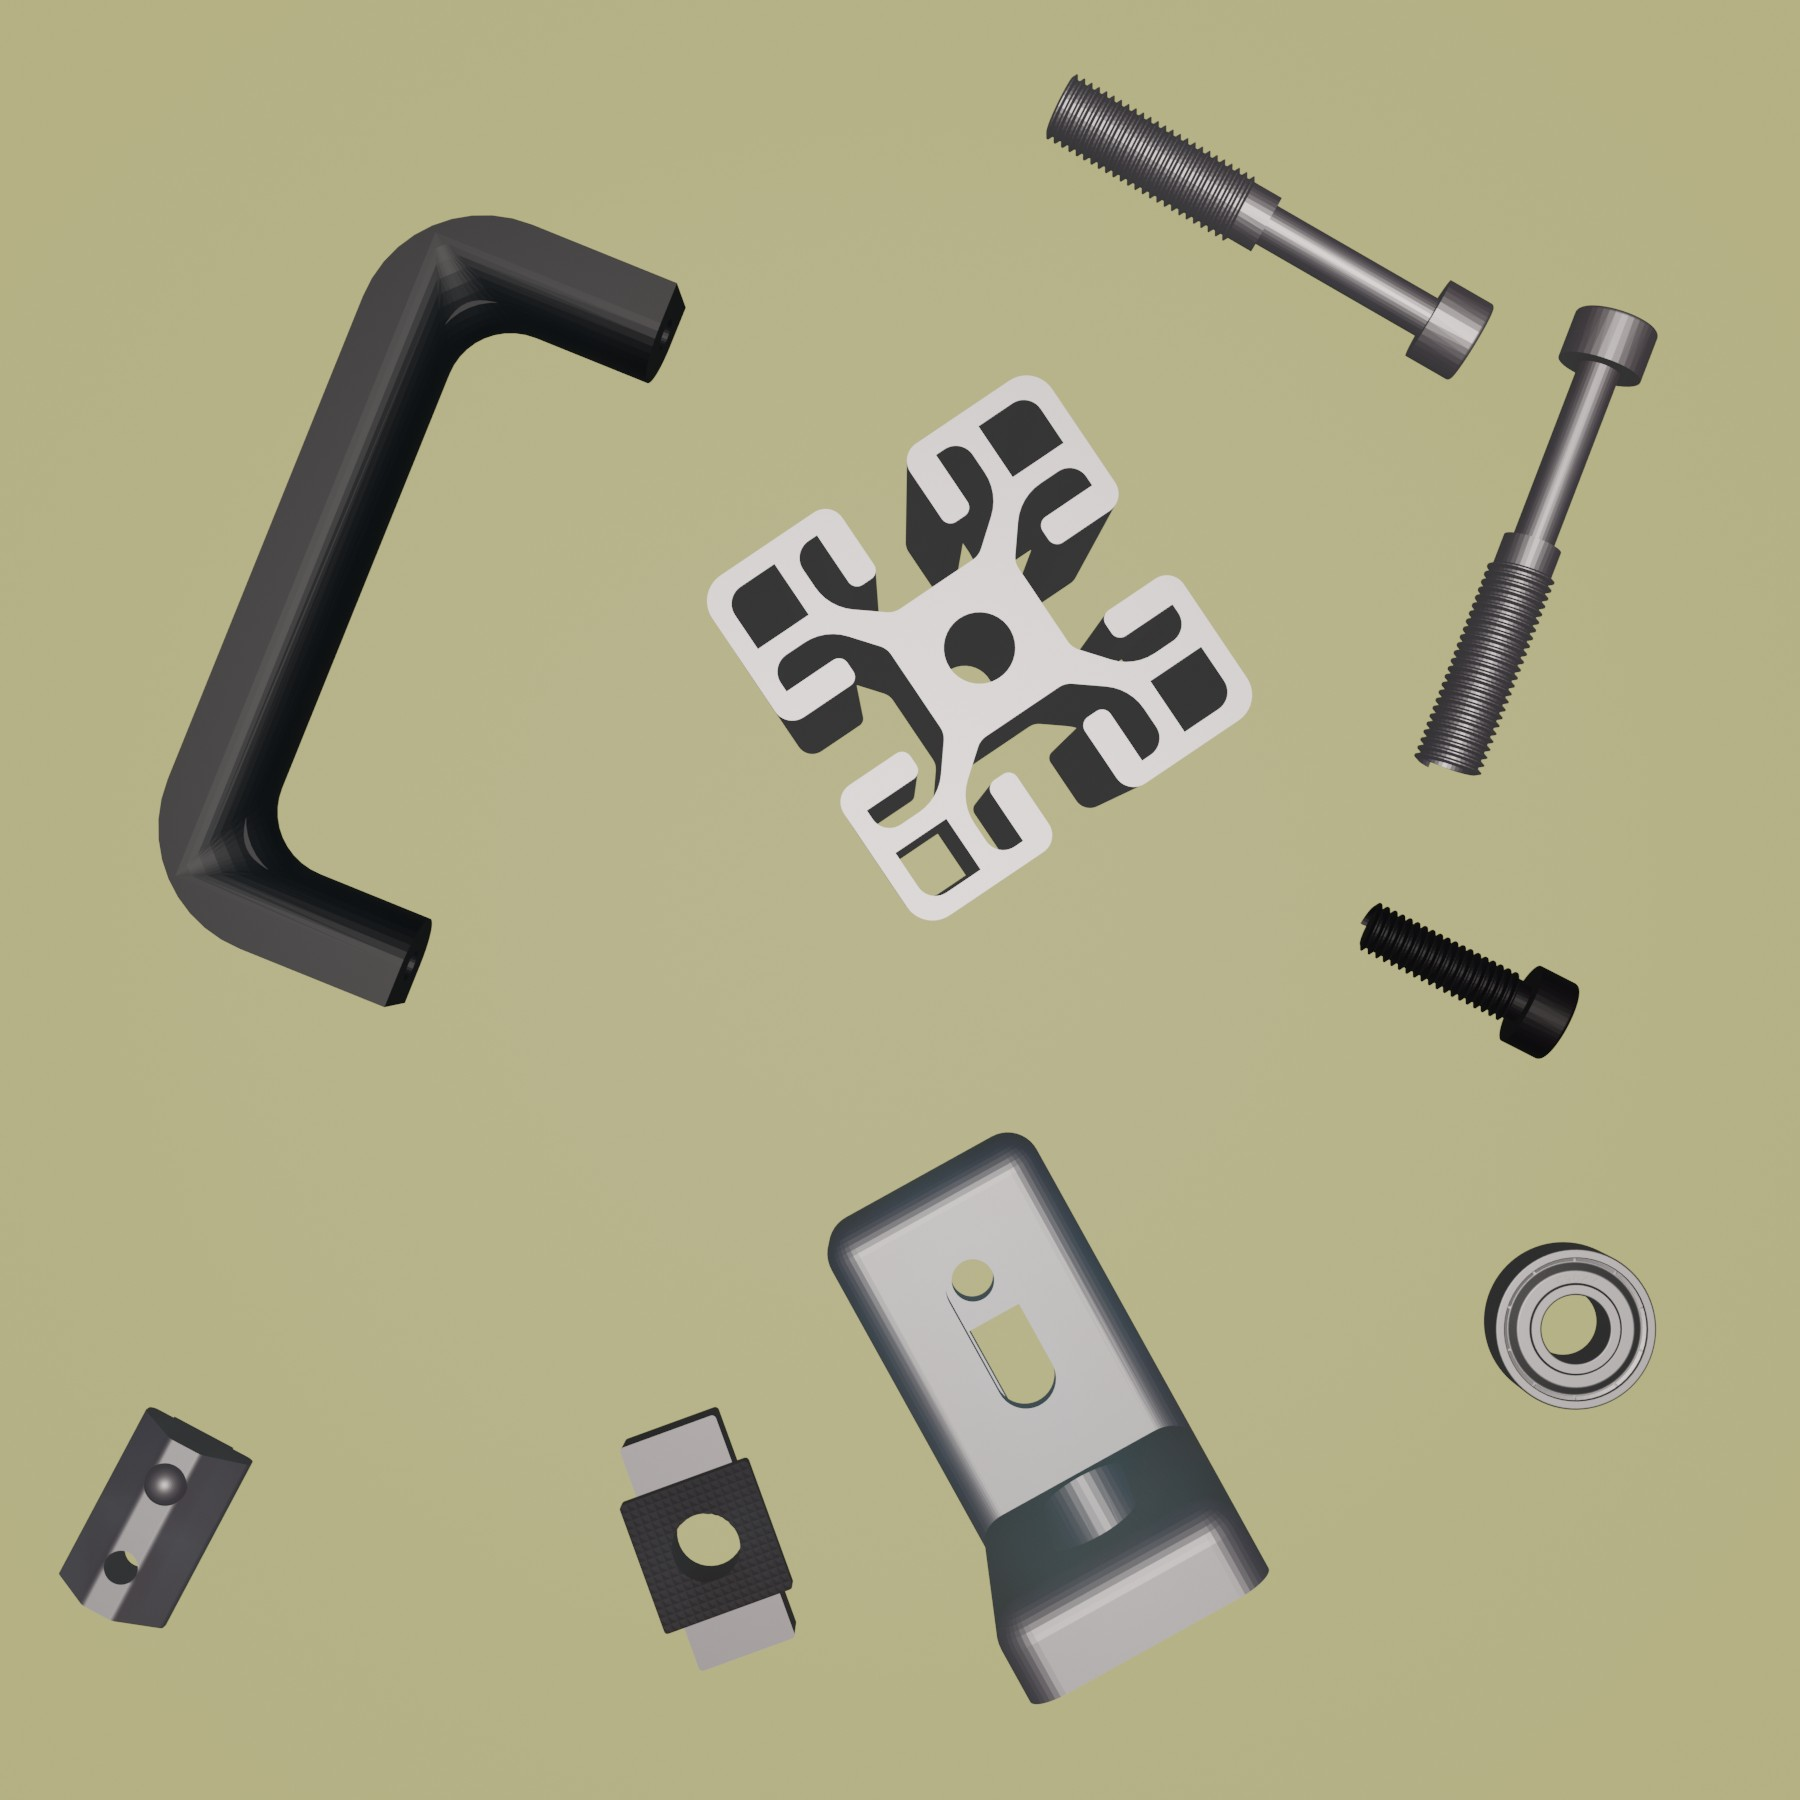Aluminium Extension: (704, 369, 1254, 926)
Ball Bearing: (1479, 1240, 1658, 1414)
Multiwinkel: (824, 1127, 1269, 1708)
Pull Handle: (157, 211, 689, 1009)
Shoulder Socket Head Cap Screw: (1042, 69, 1497, 381), (1414, 302, 1662, 780)
Socket Head Cap Screw: (1352, 903, 1581, 1062)
T Nut Square: (616, 1401, 799, 1675)
T Spring Nut: (56, 1403, 252, 1630)
